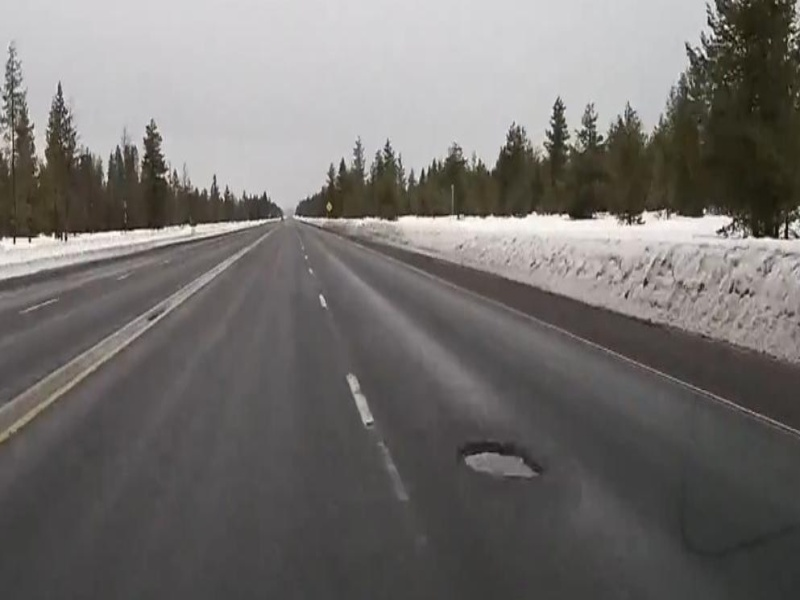pothole: (449, 438, 547, 485)
